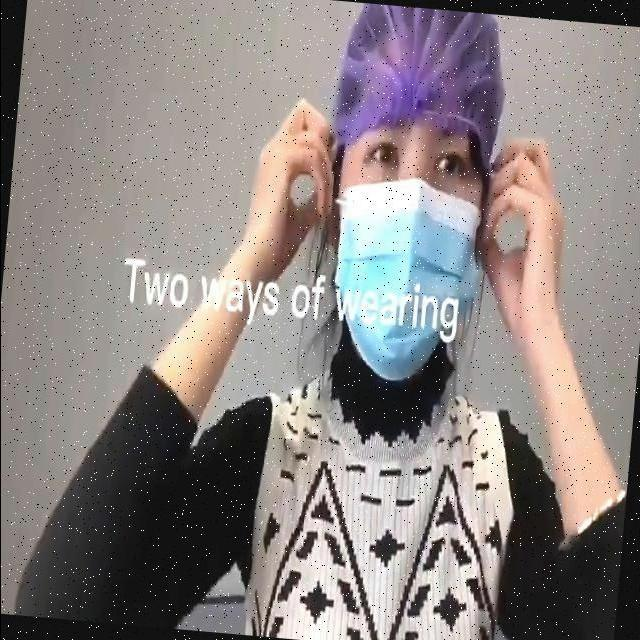gloves: (342, 0, 505, 117)
